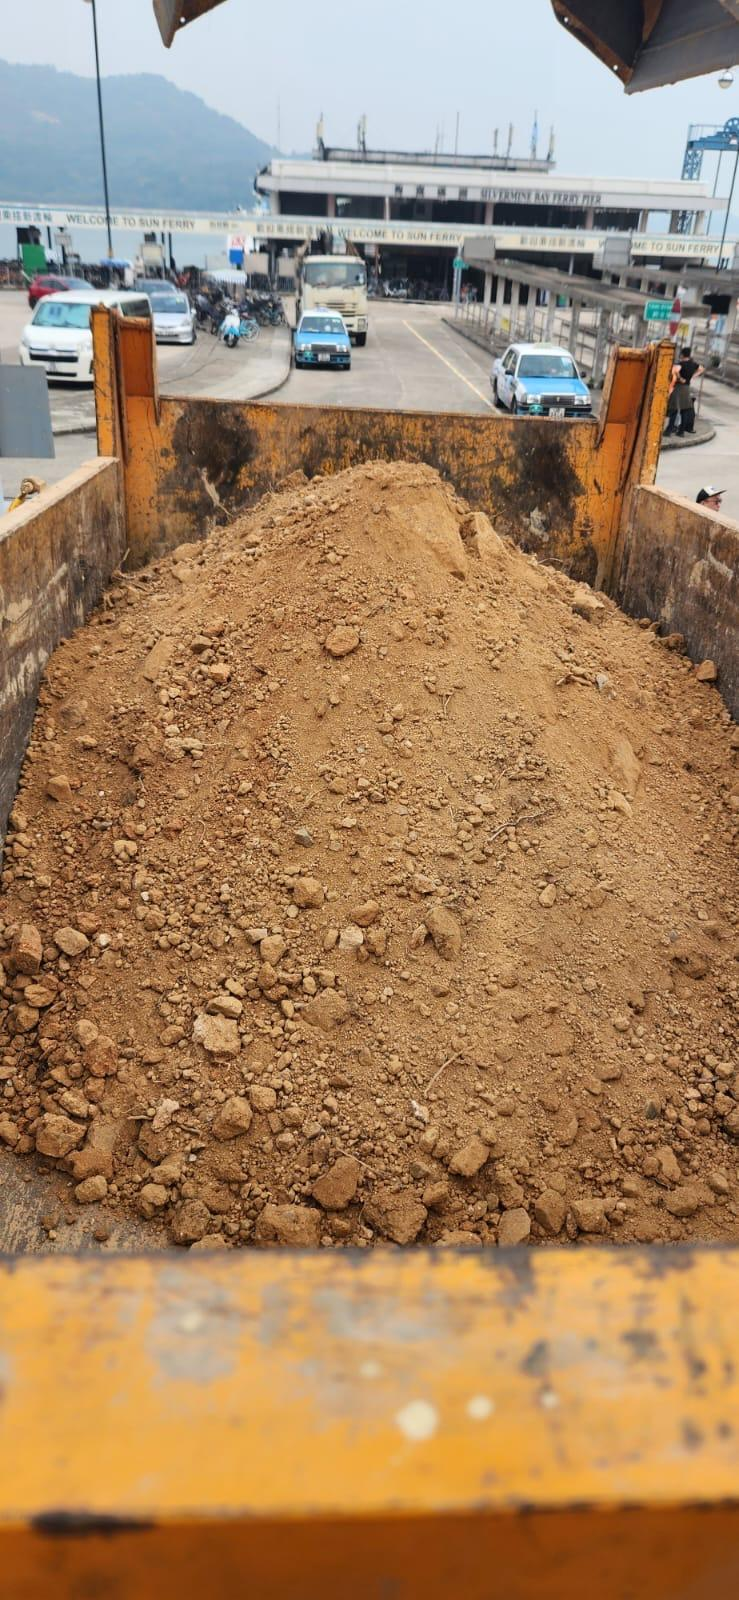dry: (12, 462, 739, 1228)
